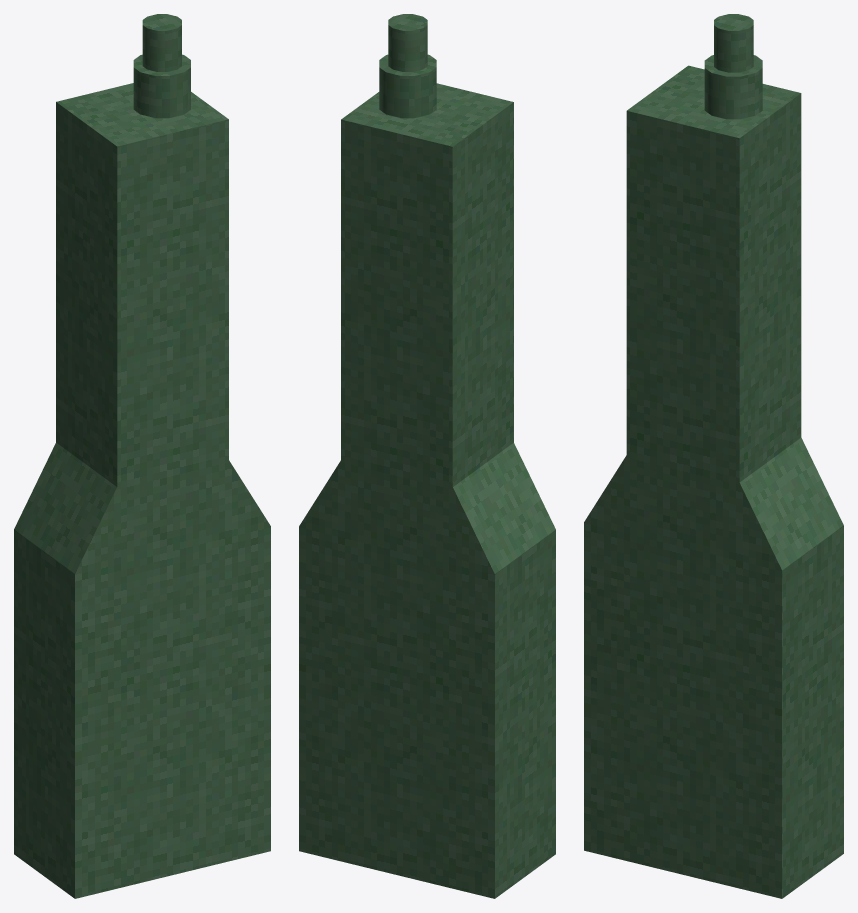
File: Chimney.fbx
3 views of the same model, side by side, from view 1: azimuth 30°, elevation 25°; view 2: azimuth 150°, elevation 25°; view 3: azimuth 330°, elevation 25° (orthographic).
Visible parts, largest first — view 1: Chimney; view 2: Chimney; view 3: Chimney.
Boxes of the visible parts, left/top/right/bottom form: Chimney: left=14, top=14, right=270, bottom=898; Chimney: left=299, top=14, right=555, bottom=898; Chimney: left=584, top=14, right=843, bottom=898.
Size of the model in its own units: 1.26 by 0.6816 by 5.08.
